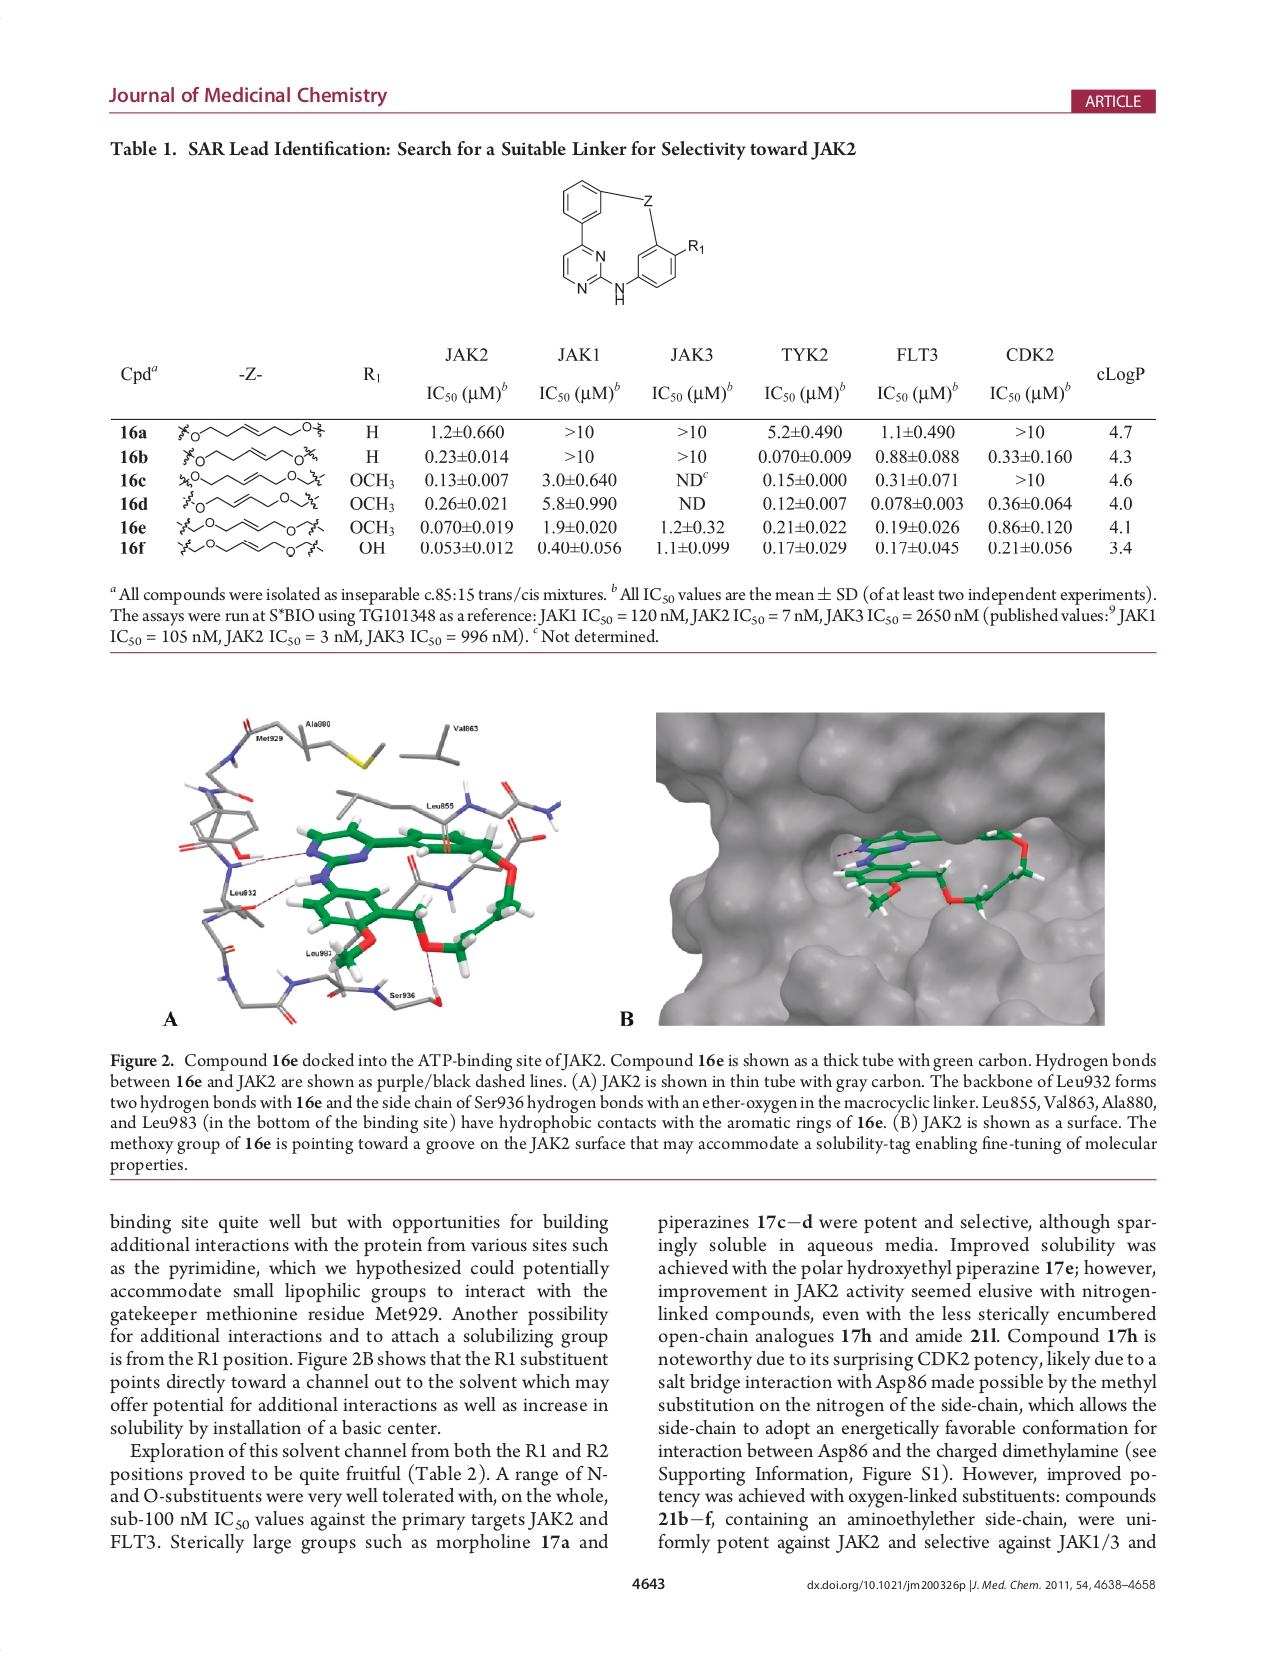exist_molecular: (551, 176, 705, 310), (173, 537, 326, 561), (176, 443, 319, 468), (177, 489, 322, 513), (174, 420, 326, 443), (173, 516, 324, 537), (176, 468, 328, 488)
